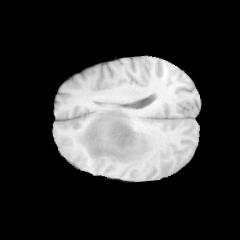glioma: (75, 108, 152, 164)
